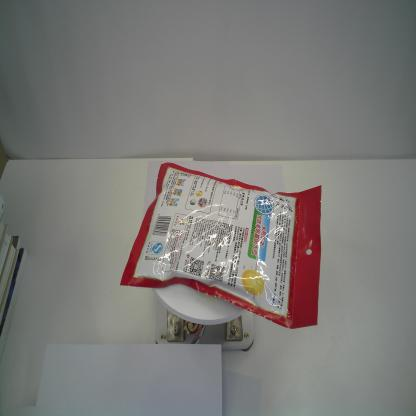Instant Drink: (119, 162, 322, 328)
